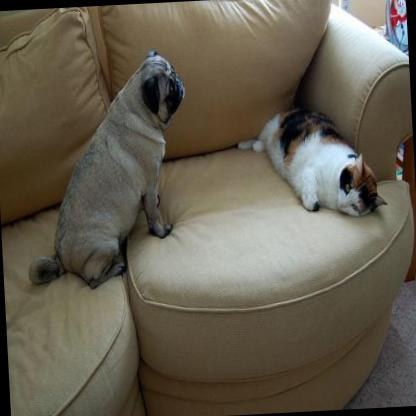pug: (14, 45, 196, 292)
